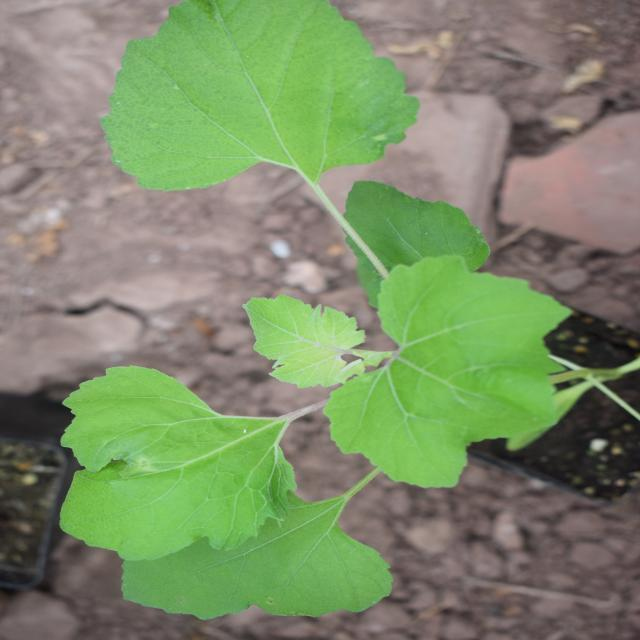cocklebur: (38, 0, 621, 550)
